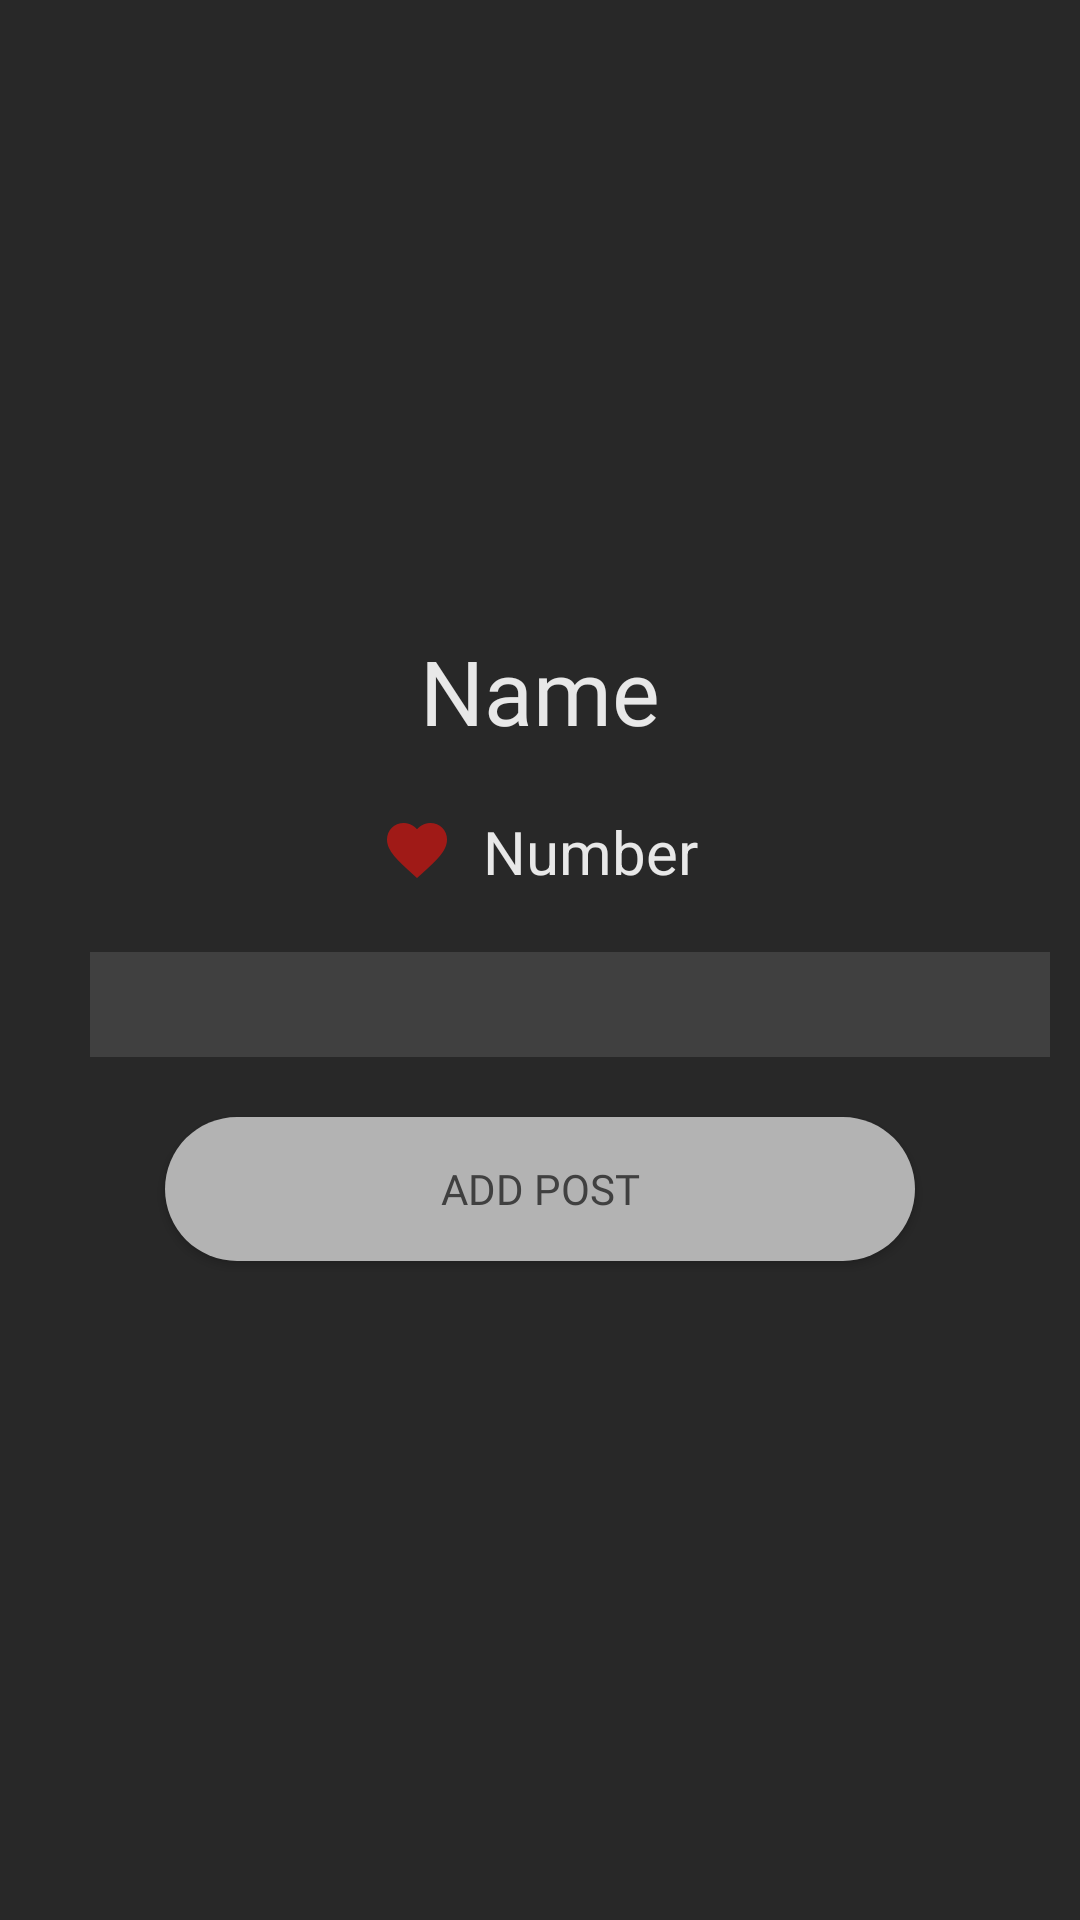

Icons on this 1080 × 1920 Android screen, each with the point to tap as point (x, y):
heart: point (417, 850)
